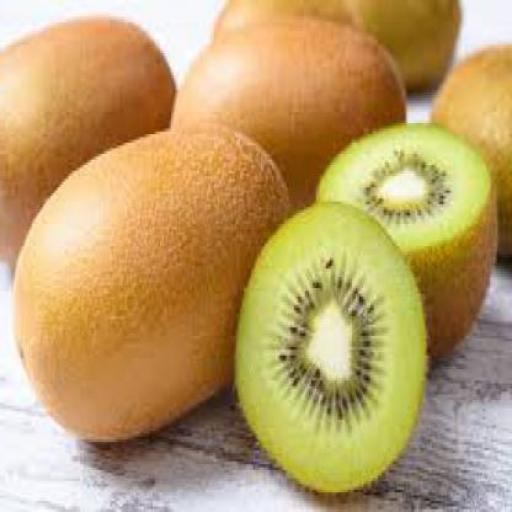biodegradable: (15, 117, 296, 445), (235, 199, 432, 498), (174, 14, 408, 219), (2, 14, 179, 263), (319, 118, 498, 355), (430, 39, 512, 258), (355, 0, 461, 92), (215, 0, 373, 46)
